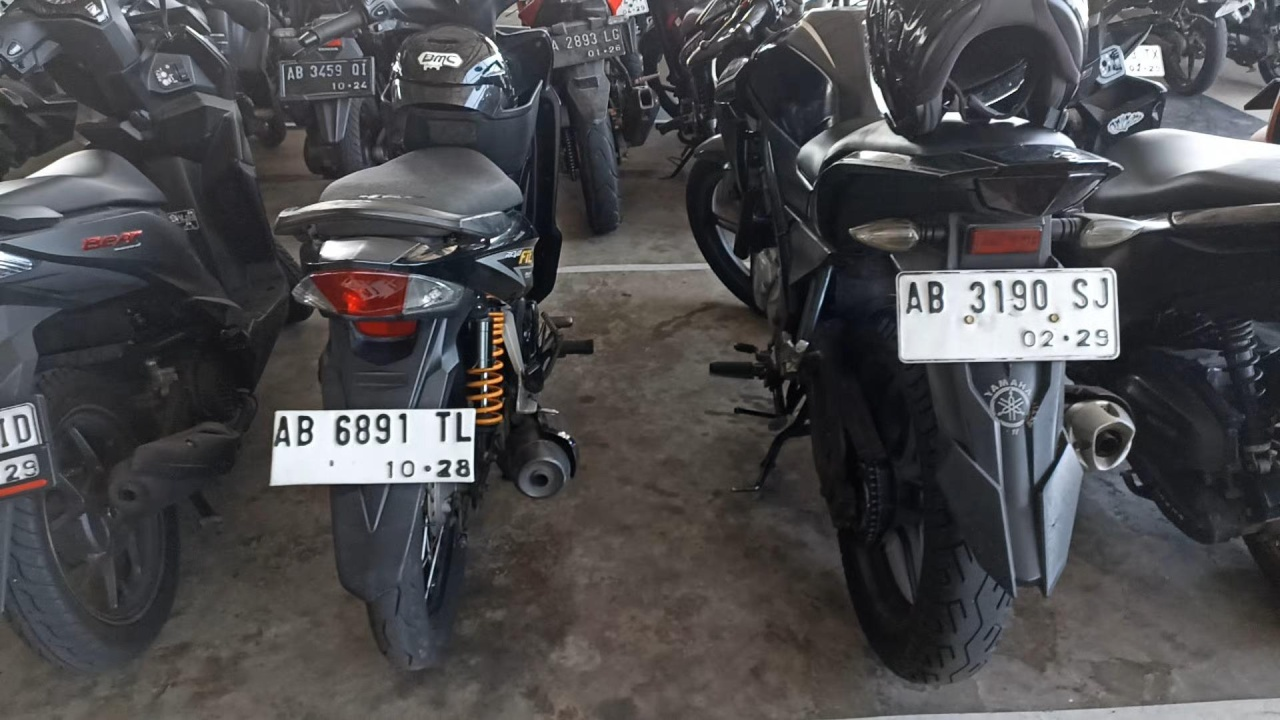plate: (899, 269, 1119, 362), (270, 408, 475, 487), (281, 58, 372, 100)
